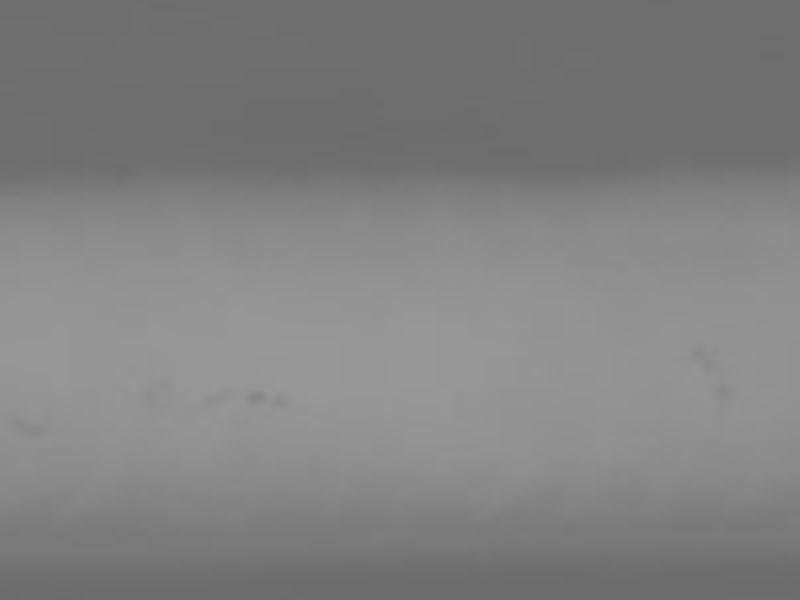defect: (14, 417, 47, 441), (715, 375, 734, 408), (246, 386, 266, 406), (698, 357, 722, 373), (688, 341, 708, 357), (274, 392, 291, 409)
